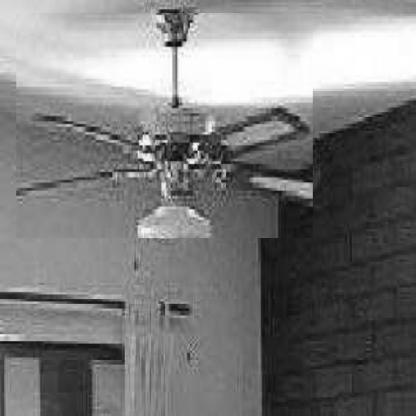ceiling-fan: (16, 13, 314, 239)
